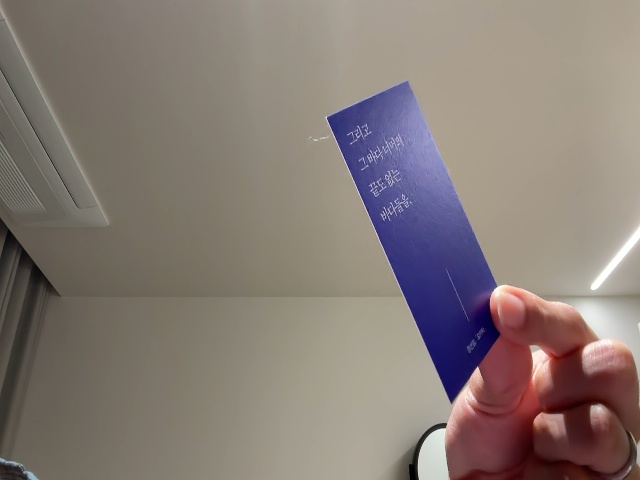card: (325, 81, 514, 404)
